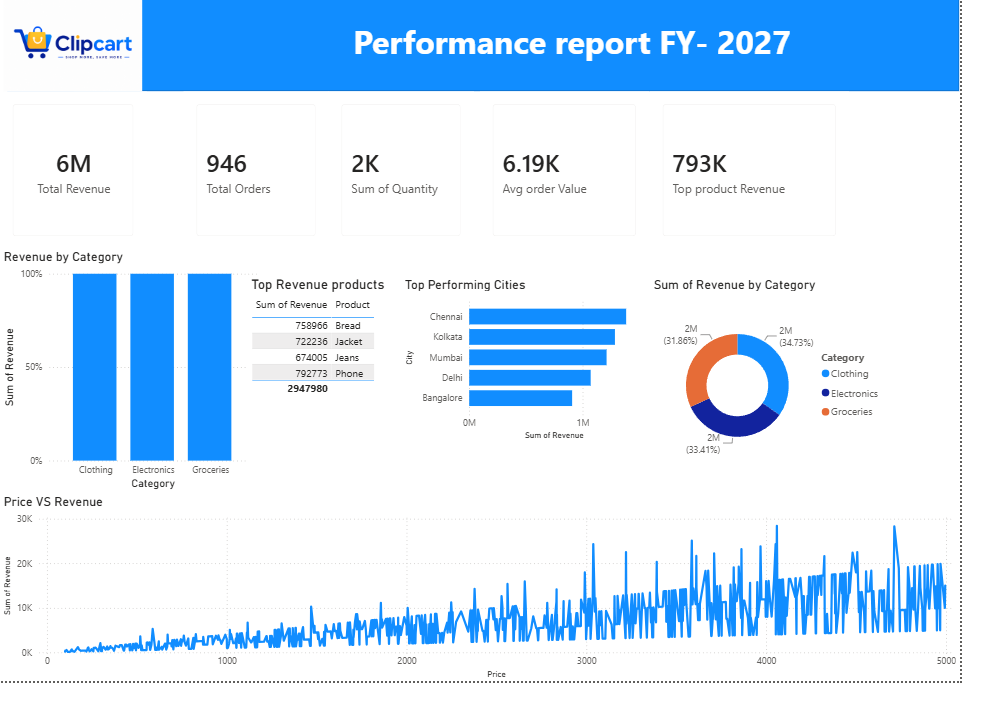

What the dashboard file says about the page in this screenshot:
{"tool":"powerbi","page":{"name":"Page 1","canvas":[1280,910],"ordinal":0},"visuals":[{"type":"shape","box":[10.7,0,1269,122.8],"z":0},{"type":"image","box":[0,0,195,123.3],"z":1000},{"type":"textbox","box":[444.9,21.4,635.4,71.2],"z":2000},{"type":"cardVisual","fields":{"Data":["Sum(1777445128882-harrykart_ecommerce_data.Revenue)"]},"box":[0,123.3,195,210],"z":3000},{"type":"lineChart","title":"Price VS Revenue","fields":{"Y":["Sum(1777445128882-harrykart_ecommerce_data.Revenue)"],"Category":["1777445128882-harrykart_ecommerce_data.Price"]},"box":[0,659.4,1279.7,251.3],"z":4000},{"type":"hundredPercentStackedColumnChart","title":"Revenue by Category","fields":{"Category":["1777445128882-harrykart_ecommerce_data.Category"],"Y":["Sum(1777445128882-harrykart_ecommerce_data.Revenue)"]},"box":[0,333.3,347.5,326.2],"z":5000},{"type":"tableEx","title":"Top Revenue products","fields":{"Values":["Sum(1777445128882-harrykart_ecommerce_data.Revenue)","1777445128882-harrykart_ecommerce_data.Product"]},"box":[330,370,230,256.7],"z":5001},{"type":"cardVisual","fields":{"Data":["CountNonNull(1777445128882-harrykart_ecommerce_data.Revenue)"]},"box":[245,123.3,193.3,210],"z":5002},{"type":"cardVisual","fields":{"Data":["Sum(1777445128882-harrykart_ecommerce_data.Quantity)"]},"box":[438.3,123.3,193.3,210],"z":5003},{"type":"clusteredBarChart","title":"Top Performing Cities","fields":{"Category":["1777445128882-harrykart_ecommerce_data.City"],"Y":["Sum(1777445128882-harrykart_ecommerce_data.Revenue)"]},"box":[535,370,331.7,223.3],"z":5004},{"type":"cardVisual","fields":{"Data":["1777445128882-harrykart_ecommerce_data.Avg order Value"]},"box":[640,123.3,225,210],"z":5005},{"type":"donutChart","fields":{"Category":["1777445128882-harrykart_ecommerce_data.Category"],"Y":["Sum(1777445128882-harrykart_ecommerce_data.Revenue)"]},"box":[866.7,370,318.3,271.7],"z":5006},{"type":"cardVisual","fields":{"Data":["1777445128882-harrykart_ecommerce_data.Top product Revenue"]},"box":[866.7,123.3,265,210],"z":5007}]}

Visuals, with their boxes in screenshot pixels (x1, y1, x2, y2), scaled from the page's 1280x910 canvas onto the 992x712 screenshot:
shape: left=8, top=0, right=991, bottom=96
image: left=0, top=0, right=151, bottom=96
textbox: left=345, top=17, right=837, bottom=72
cardVisual - Sum(1777445128882-harrykart_ecommerce_data.Revenue): left=0, top=96, right=151, bottom=261
"Price VS Revenue" lineChart: left=0, top=516, right=991, bottom=711
"Revenue by Category" hundredPercentStackedColumnChart: left=0, top=261, right=269, bottom=516
"Top Revenue products" tableEx: left=256, top=289, right=434, bottom=490
cardVisual - CountNonNull(1777445128882-harrykart_ecommerce_data.Revenue): left=190, top=96, right=340, bottom=261
cardVisual - Sum(1777445128882-harrykart_ecommerce_data.Quantity): left=340, top=96, right=489, bottom=261
"Top Performing Cities" clusteredBarChart: left=415, top=289, right=672, bottom=464
cardVisual - 1777445128882-harrykart_ecommerce_data.Avg order Value: left=496, top=96, right=670, bottom=261
donutChart - 1777445128882-harrykart_ecommerce_data.Category x Sum(1777445128882-harrykart_ecommerce_data.Revenue): left=672, top=289, right=918, bottom=502
cardVisual - 1777445128882-harrykart_ecommerce_data.Top product Revenue: left=672, top=96, right=877, bottom=261
